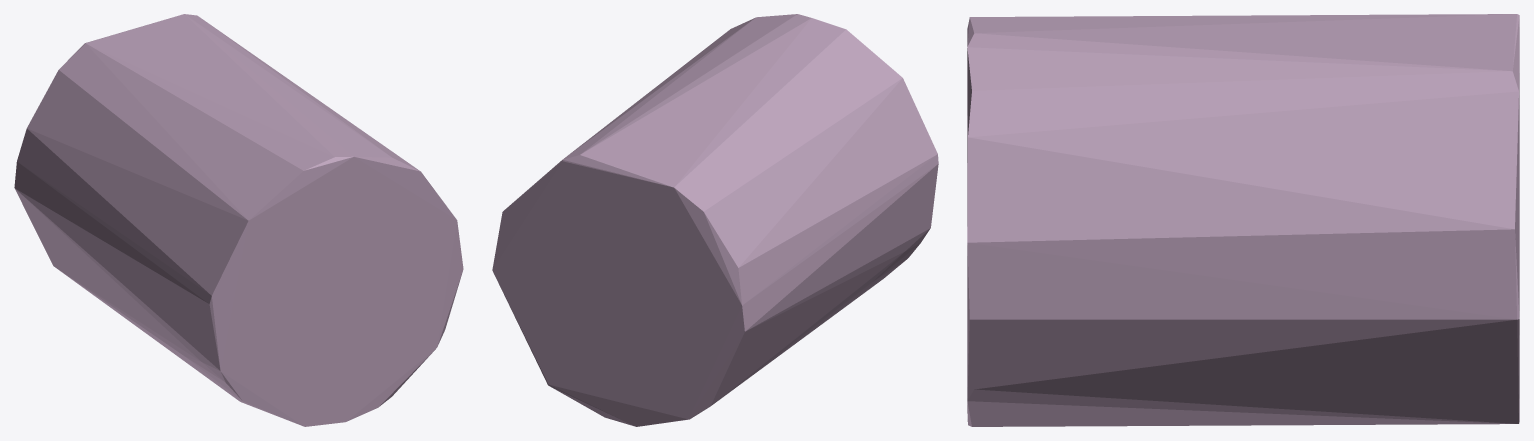
File: food_canned_fruit_a01.glb
3 renders of one model, left to right at view 1: azimuth 30°, elevation 25°; view 2: azimuth 150°, elevation 25°; view 3: azimuth 270°, elevation 25°, orthographic. The views are drawn at different scales.
Visible parts, largest first — view 1: geometry_0; view 2: geometry_0; view 3: geometry_0.
Boxes of the visible parts, x1,y1,x2,y2 form: geometry_0: (14,14,463,426); geometry_0: (492,14,938,426); geometry_0: (967,14,1519,426).
Size of the model in its own units: 0.3578 by 0.3575 by 0.48.
